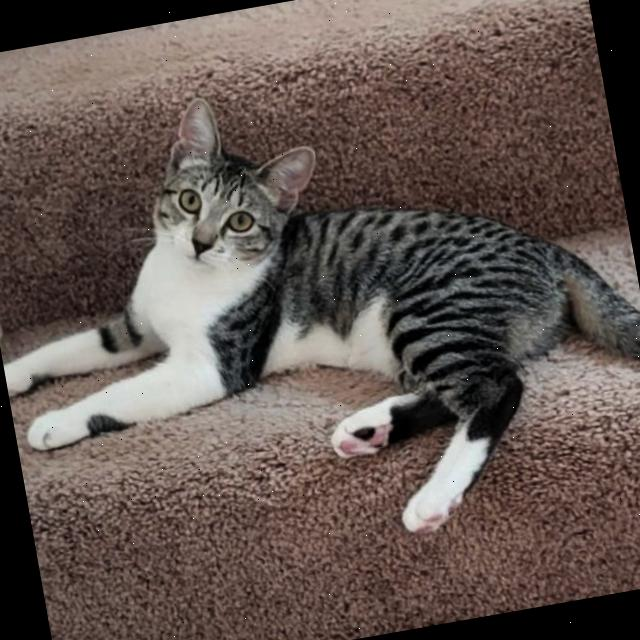domestic_short_hair_cat: (96, 68, 360, 350)
